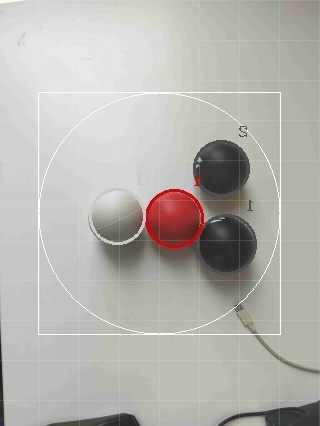Pelota blanca: (87, 185, 145, 246)
Pelota negra: (197, 212, 260, 275), (191, 137, 252, 198), (47, 411, 145, 425)
Pelota roja: (146, 188, 207, 248)
